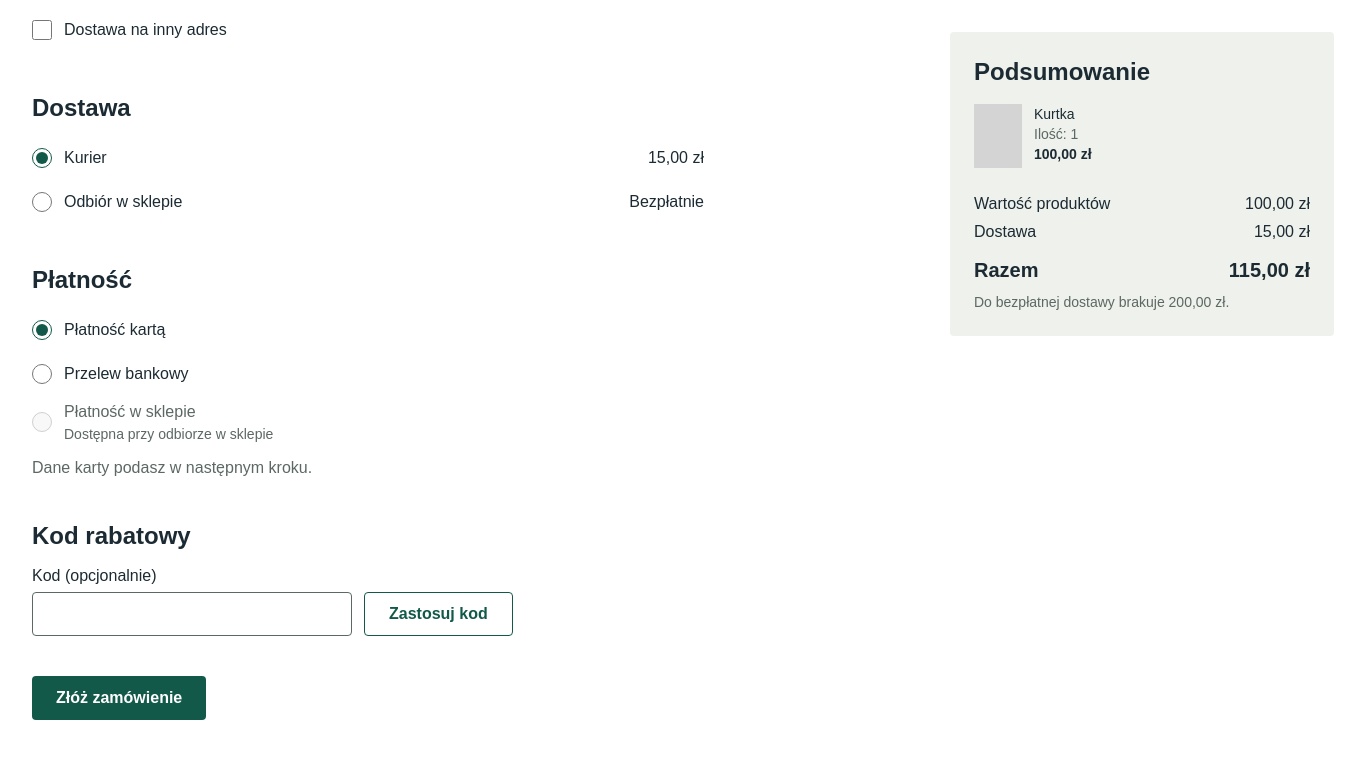
Test case: a refused order › puts the errors of a 422 on their fields
(page scrolled)
Click the button "Złóż zamówienie".
click(119, 698)  # box [32, 676, 206, 720]
(page scrolled)
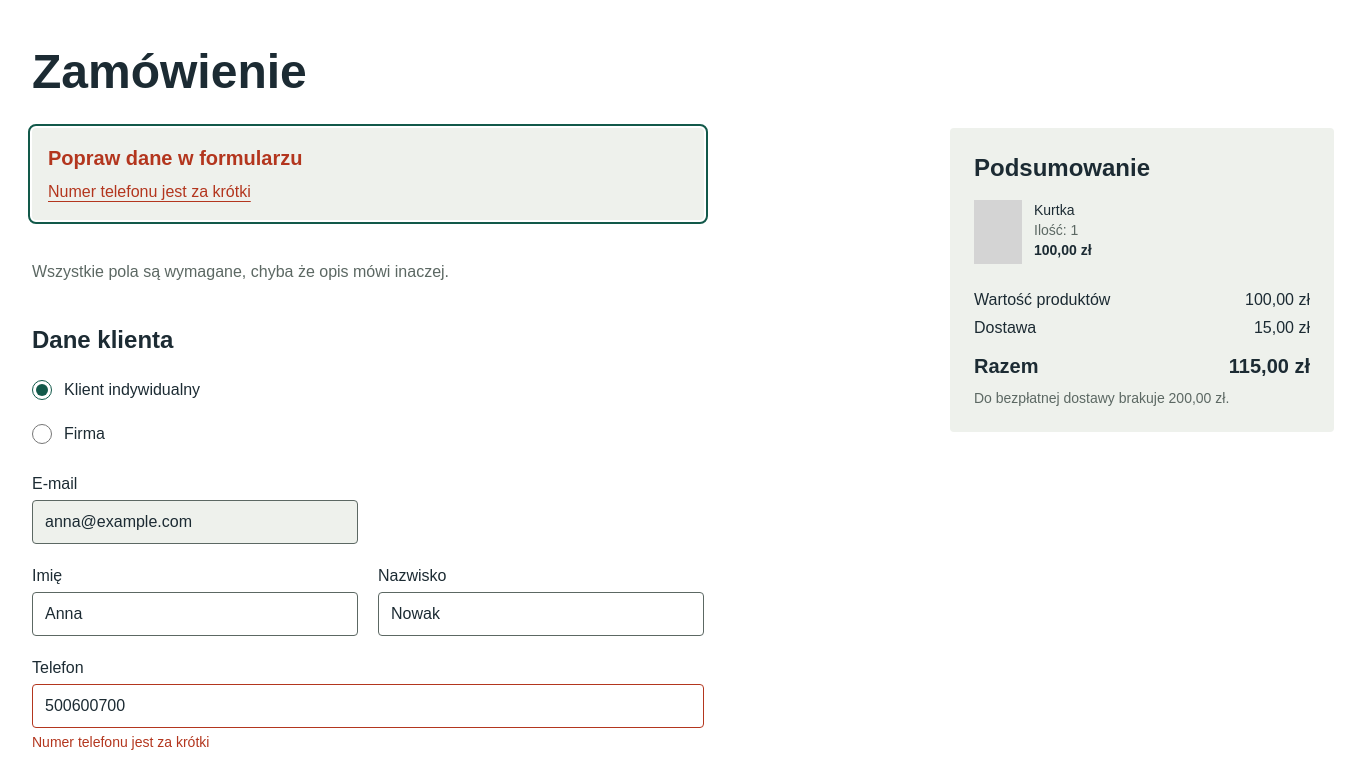
Expected: the field labelled "Telefon" is marked as invalid, [32, 684, 704, 728]
